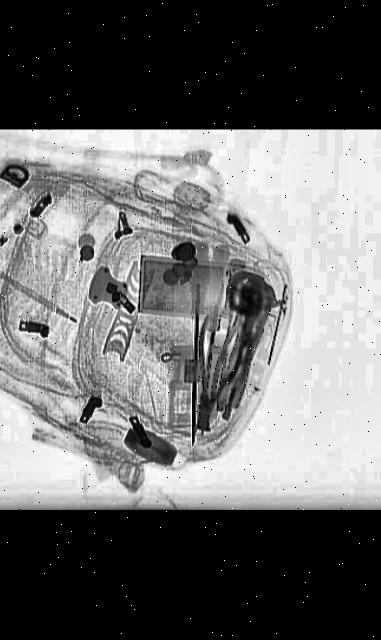Pliers: (176, 316, 256, 435)
